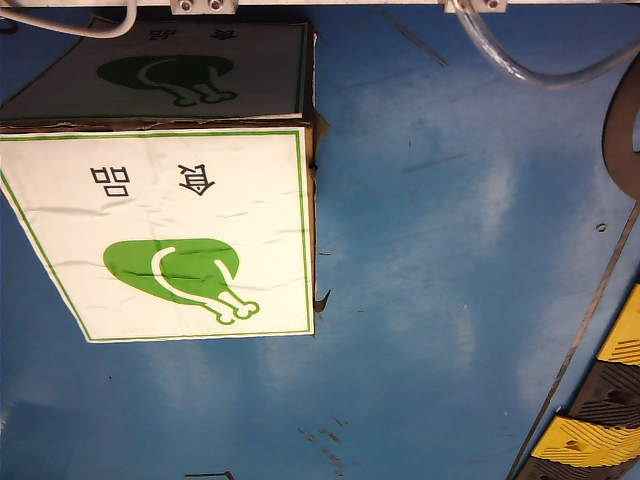Cube_food: (89, 156, 266, 332)
